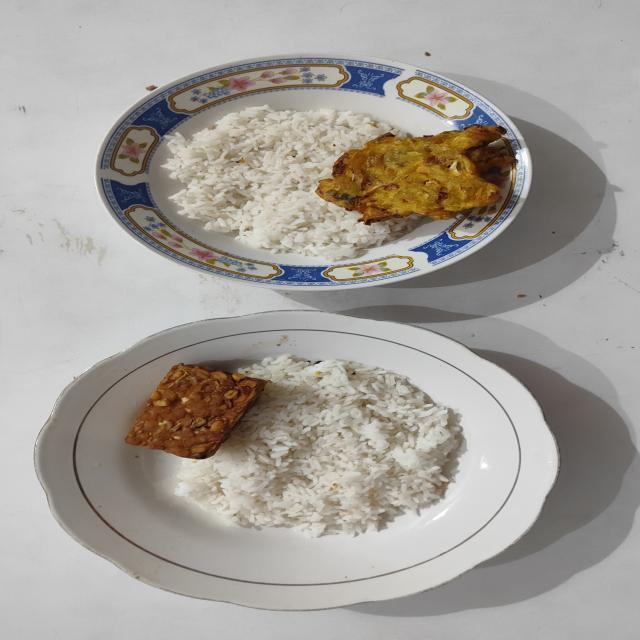nasi_putih: (176, 355, 463, 537), (161, 105, 416, 261)
tempe_goreng: (125, 363, 267, 459)
